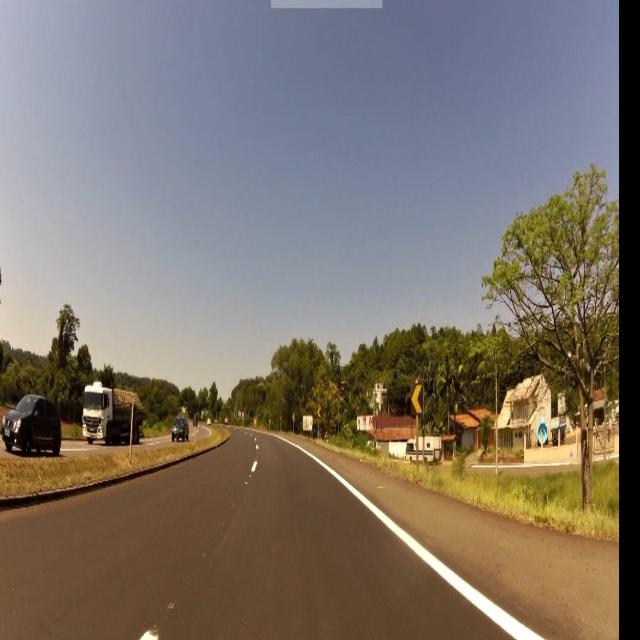Del: (409, 381, 424, 420)
